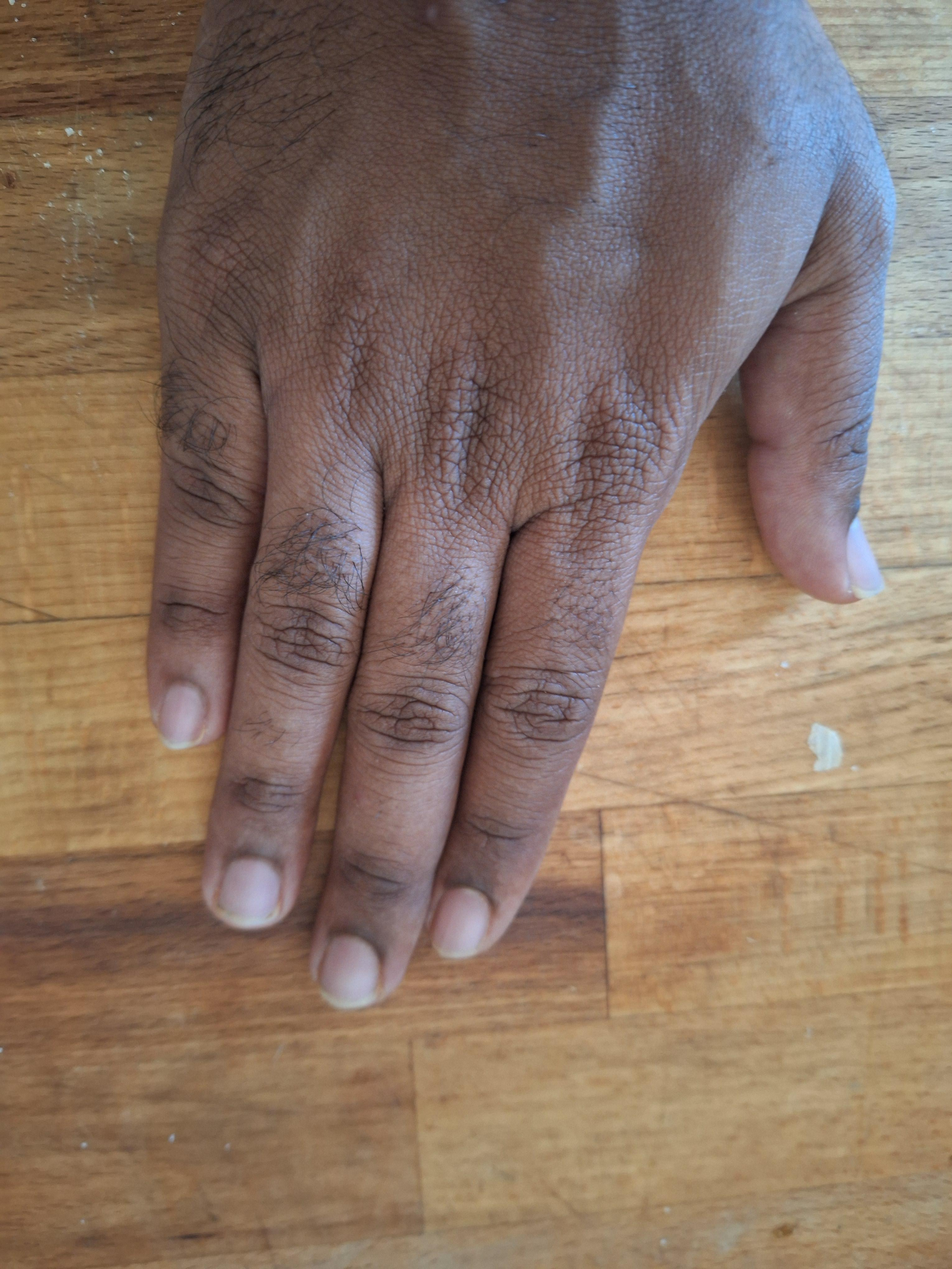Fingernail: (318, 935, 382, 1009), (216, 860, 281, 929), (432, 887, 491, 958), (158, 684, 205, 752), (847, 516, 885, 599)
